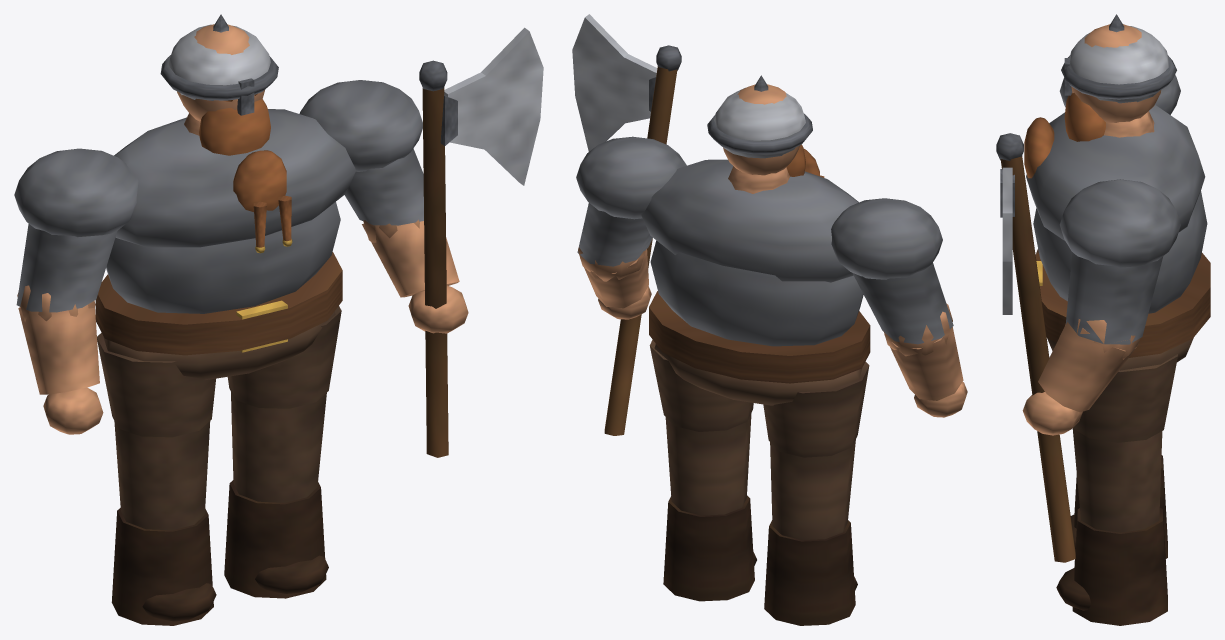
The model's file is dwarf.obj.
3 views of the same model, side by side, from view 1: azimuth 30°, elevation 25°; view 2: azimuth 150°, elevation 25°; view 3: azimuth 270°, elevation 25° (orthographic). The views are drawn at different scales.
Size of the model in its own units: 4.31 by 5.1 by 1.75.
1 material, 1 textured.
